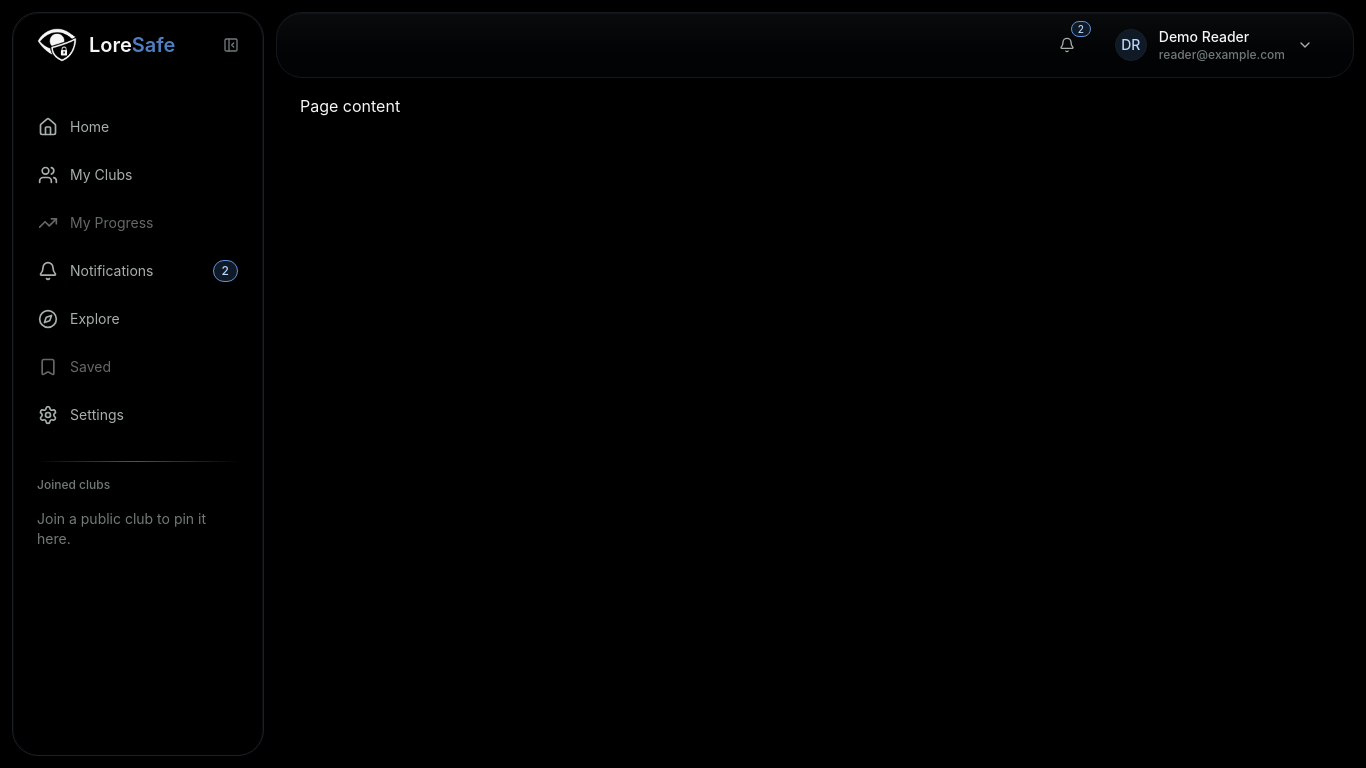
Test: AppShell layout › opens a notification preview dropdown from the top-bar icon
The image size is (1366, 768).
What coordinates should you click on to do the following:
click the button named "Notifications"
I would click on:
 (1067, 45)
Its box is top-left (1047, 25), bottom-right (1087, 65).
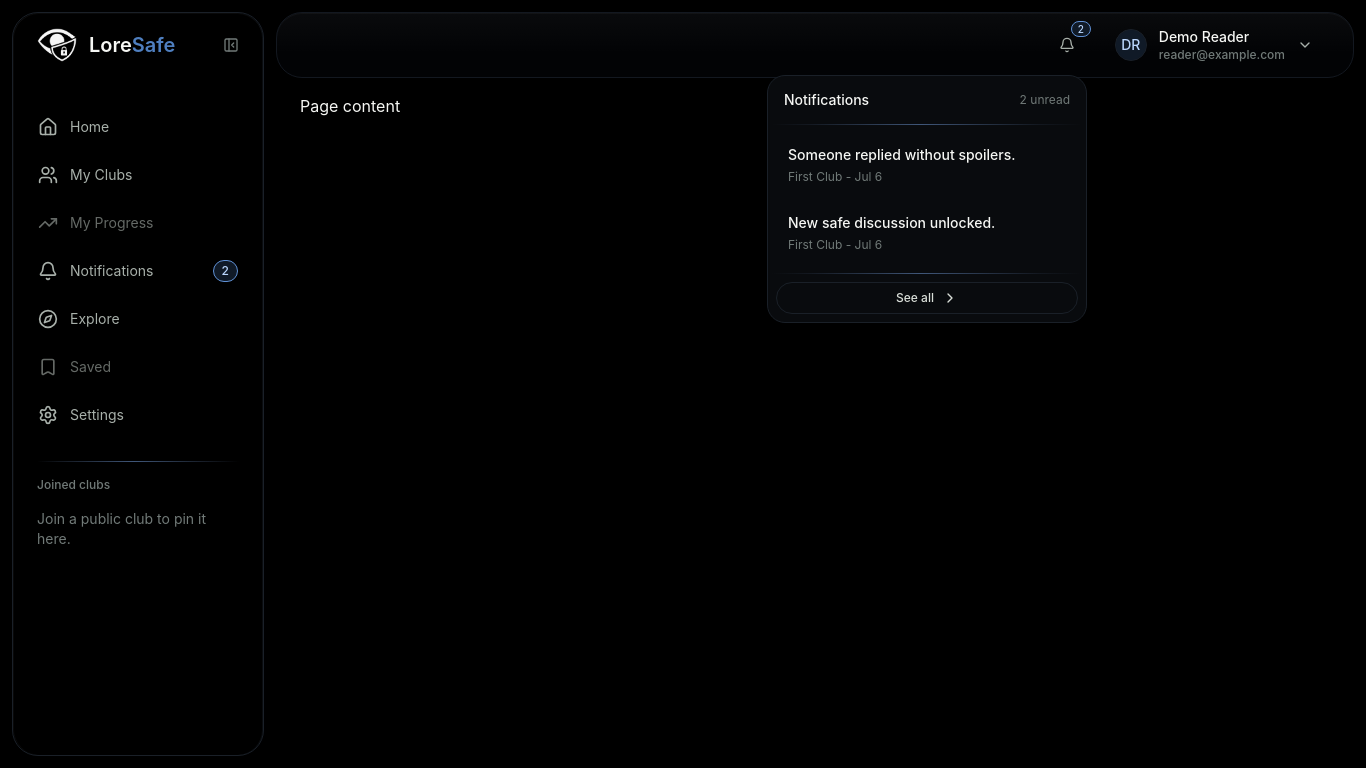
Now the menu is shown, box top-left (767, 75), bottom-right (1087, 323)
Now the text "2 unread" is shown, box top-left (1020, 92), bottom-right (1070, 108)
Now the text "Someone replied without spoilers." is shown, box top-left (788, 146), bottom-right (1016, 163)
